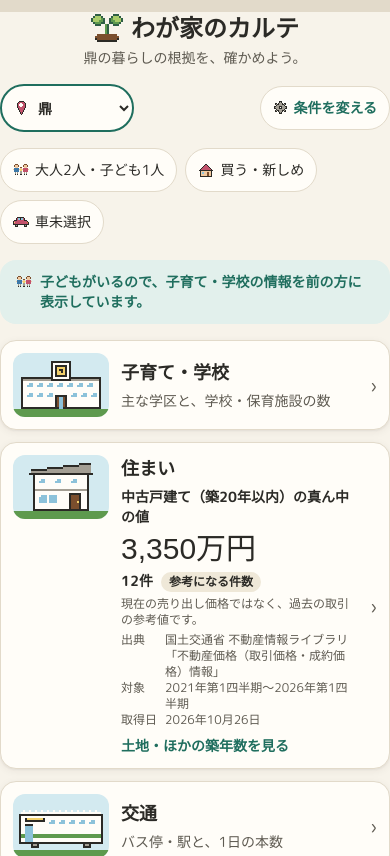
it: KarteView：移動（F-04・F-14） › 地区をこの画面のまま切り替えられる
Select "伊賀良" in the dropdown named "地区を切り替える" at (83, 108), box [34,86,132,130]
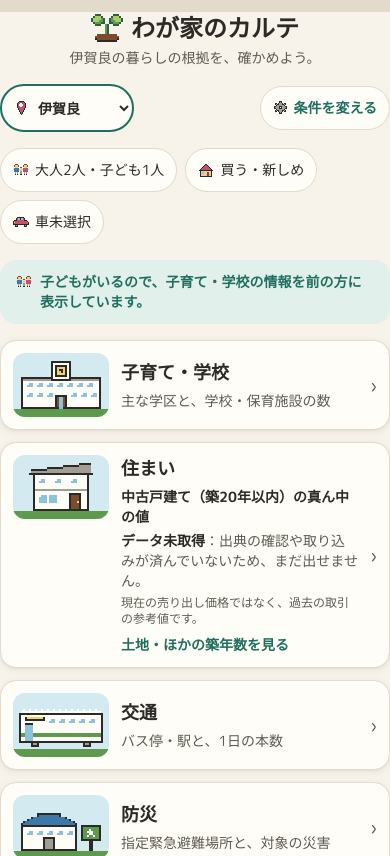
Expected: the text "伊賀良の暮らしの根拠を、確かめよう。" is shown, [69,48,321,68]
